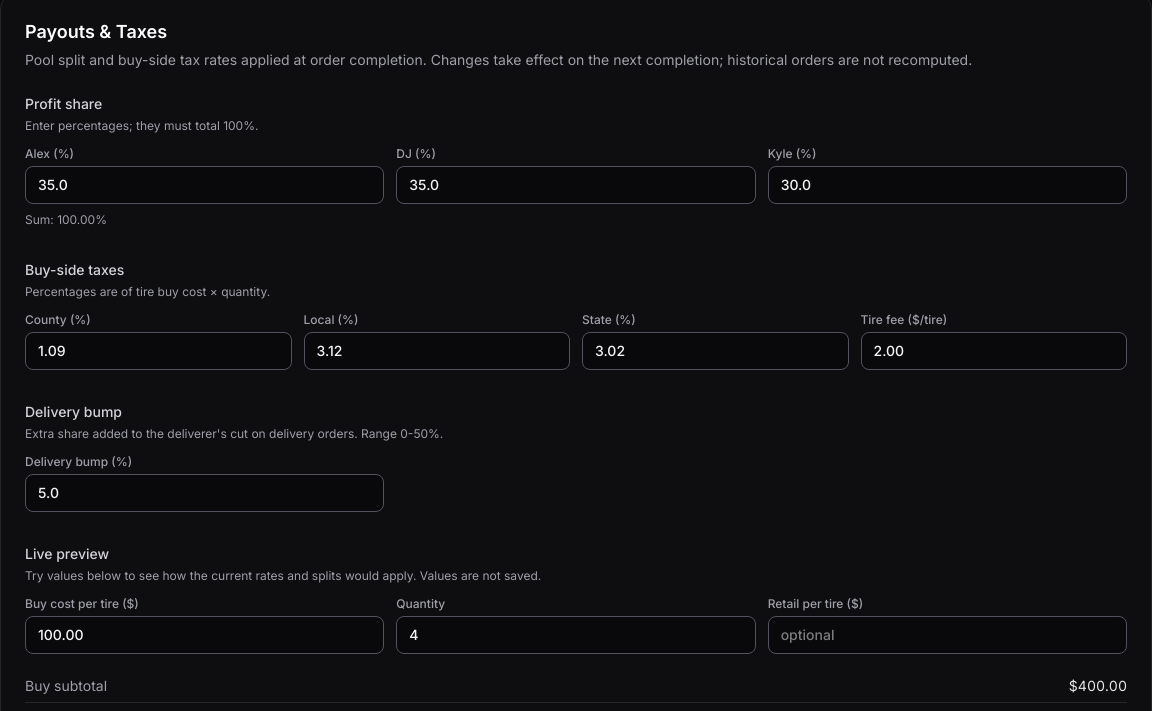
Test case: PayoutConfigPanel › disables submit when splits do not sum to 100%
Replace the text in the field showing "35.0" with "10" at (205, 185), box [25,166,384,204]
(page scrolled)
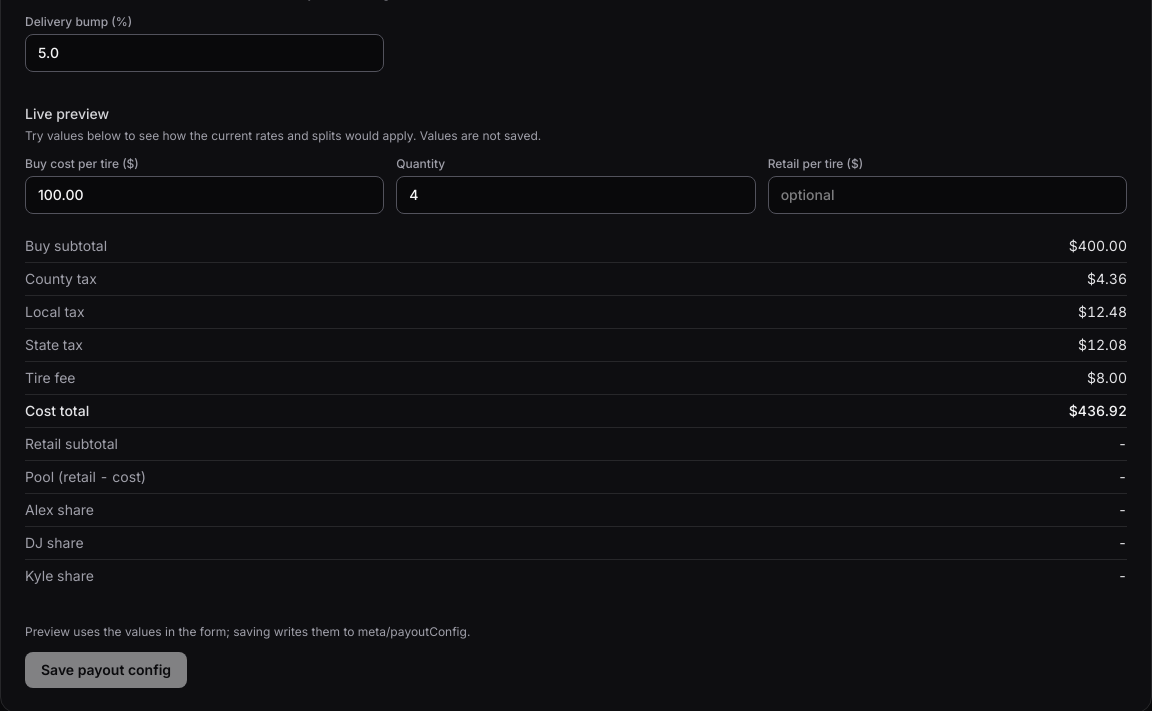
Check: the button "Save payout config" is disabled, box [25,652,187,688]
